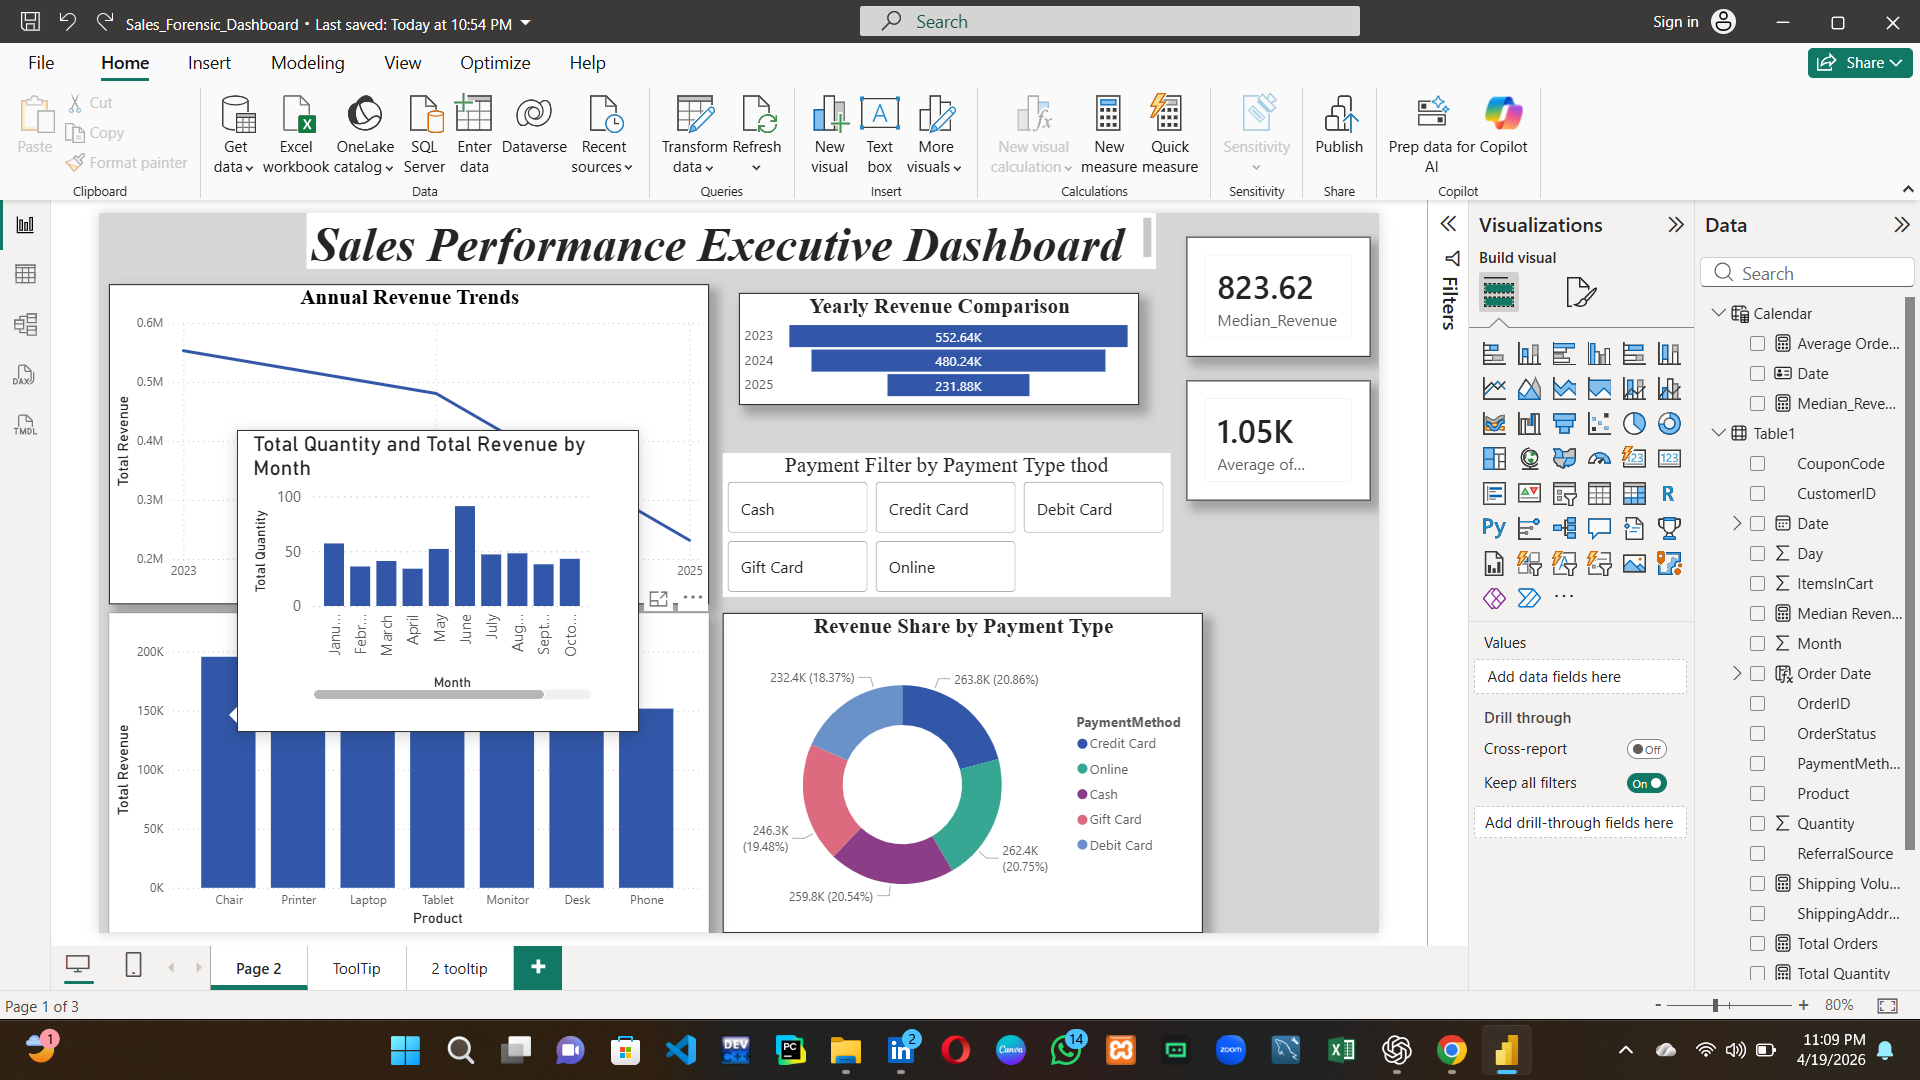

This screenshot's page, from the dashboard's own definition file:
{"tool":"powerbi","page":{"name":"Page 2","canvas":[1280,720],"ordinal":0},"visuals":[{"type":"lineChart","title":"Annual Revenue Trends","fields":{"Category":["Table1.Order Date.Variation.Date Hierarchy.Year","Table1.Order Date.Variation.Date Hierarchy.Quarter","Table1.Order Date.Variation.Date Hierarchy.Month","Table1.Order Date.Variation.Date Hierarchy.Day"],"Y":["Table1.Total Revenue"]},"box":[10,70.9,600,320],"z":0},{"type":"donutChart","title":"Revenue Share by Payment Type","fields":{"Category":["Table1.PaymentMethod"],"Y":["Table1.Total Revenue"]},"box":[624,400,480,320],"z":1000},{"type":"clusteredColumnChart","title":"Sales Performance by Category","fields":{"Category":["Table1.Product"],"Y":["Table1.Total Revenue"]},"box":[10,400,600,320],"z":2000},{"type":"funnel","title":"Yearly Revenue Comparison","fields":{"Category":["Table1.Order Date.Variation.Date Hierarchy.Year","Table1.Order Date.Variation.Date Hierarchy.Quarter","Table1.Order Date.Variation.Date Hierarchy.Month","Table1.Order Date.Variation.Date Hierarchy.Day"],"Y":["Sum(Table1.TotalPrice)"]},"box":[640,80,400,112],"z":3000},{"type":"advancedSlicerVisual","title":"Payment Filter by Payment Type thod","fields":{"Values":["Table1.PaymentMethod"]},"box":[624,240,448,144],"z":4000},{"type":"textbox","box":[207.2,0,849.4,56.3],"z":5000},{"type":"cardVisual","fields":{"Data":["Avg(Table1.TotalPrice)"]},"box":[1088,168,184,120],"z":6000},{"type":"cardVisual","fields":{"Data":["Avg(Table1.TotalPrice)"]},"box":[272,416,304,288],"z":7000},{"type":"cardVisual","fields":{"Data":["Calendar.Median_Revenue"]},"box":[1088,24,184,120],"z":8000}]}

Visuals, with their boxes on the page's 1280x720 design canvas (x1, y1, x2, y2). These are canvas units, not pixel positions in the 1920x1080 screenshot, which may show the page scaled, cropped or inside an application window:
"Annual Revenue Trends" lineChart: BBox(10, 71, 610, 391)
"Revenue Share by Payment Type" donutChart: BBox(624, 400, 1104, 720)
"Sales Performance by Category" clusteredColumnChart: BBox(10, 400, 610, 720)
"Yearly Revenue Comparison" funnel: BBox(640, 80, 1040, 192)
"Payment Filter by Payment Type thod" advancedSlicerVisual: BBox(624, 240, 1072, 384)
textbox: BBox(207, 0, 1057, 56)
cardVisual - Avg(Table1.TotalPrice): BBox(1088, 168, 1272, 288)
cardVisual - Avg(Table1.TotalPrice): BBox(272, 416, 576, 704)
cardVisual - Calendar.Median_Revenue: BBox(1088, 24, 1272, 144)
